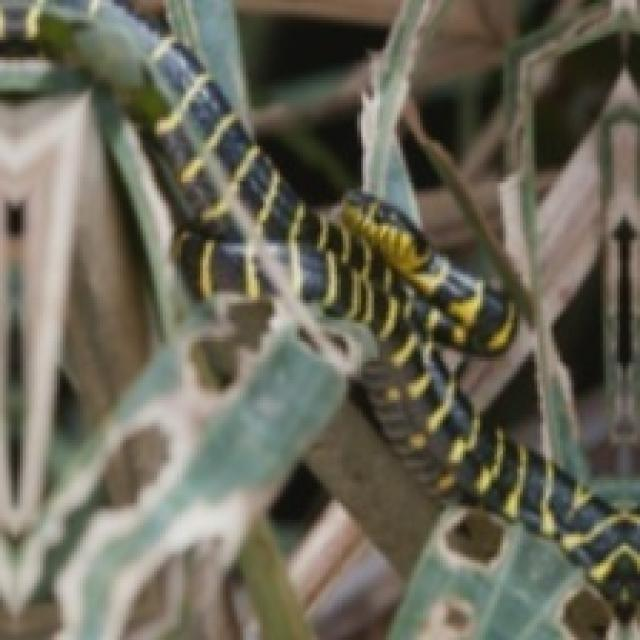mangrove cat snake: (0, 1, 640, 618)
